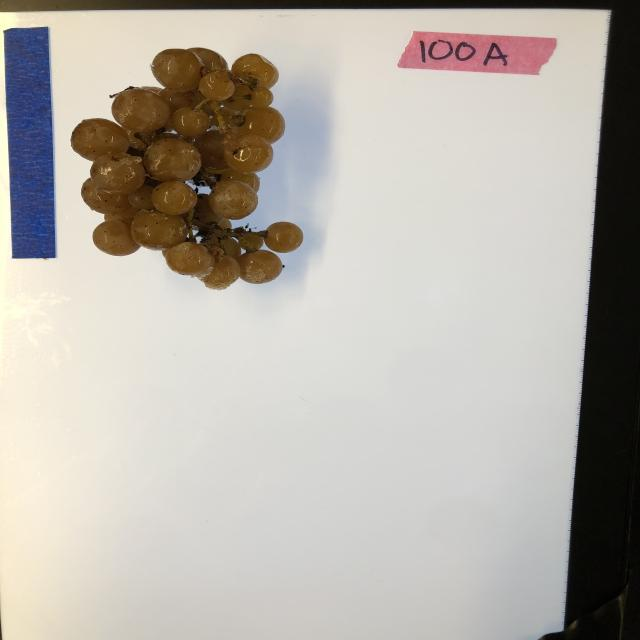grape_cluster: (70, 47, 306, 291)
index: (396, 30, 558, 76)
measure_label: (3, 26, 58, 259)
